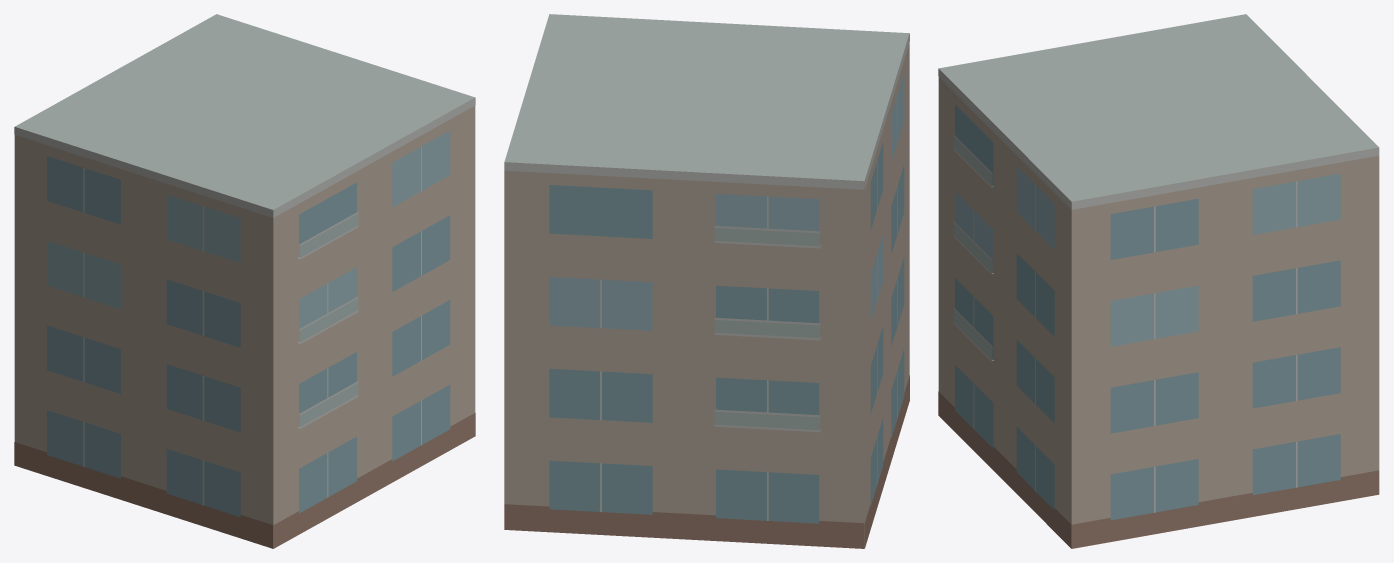
File: survey-upis-32920227.glb
3 renders of one model, left to right at view 1: azimuth 30°, elevation 25°; view 2: azimuth 150°, elevation 25°; view 3: azimuth 270°, elevation 25°, orthographic. The views are drawn at different scales.
Parts seen in each view (by area): view 1: survey-upis-32920227.tmp; view 2: survey-upis-32920227.tmp; view 3: survey-upis-32920227.tmp.
Boxes of the visible parts, box(x1,y1,x2,y2) form: survey-upis-32920227.tmp: box(14, 14, 475, 548); survey-upis-32920227.tmp: box(504, 14, 909, 548); survey-upis-32920227.tmp: box(938, 14, 1379, 548).
Bounding box in the file's own units: 12.2 × 10.5 × 12.09.
